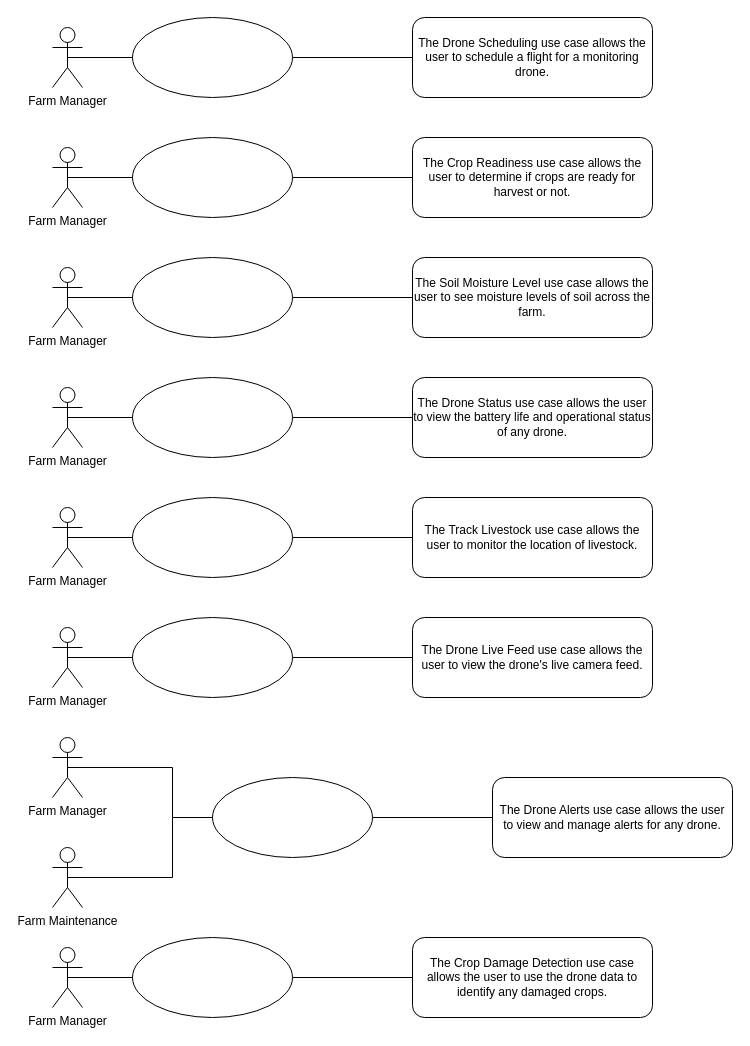
Some shapes in this 750 by 1046 pixel diagram are drawn without their labels. Here are the shapes that lost their labels. From the top down, the centre of each, then its label:
point (212, 57): Drone Schedule
point (212, 177): Crop Readiness
point (212, 297): Soil Moisture Level
point (212, 417): Drone Status
point (212, 537): Track Livestock
point (212, 657): Drone Live Feed
point (292, 817): Drone Alerts
point (212, 977): Crop Damage Detection
